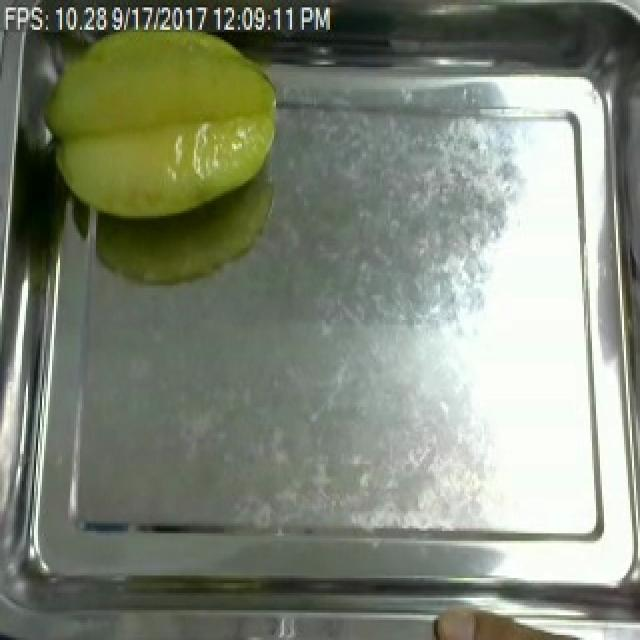fruit: (34, 18, 286, 234)
